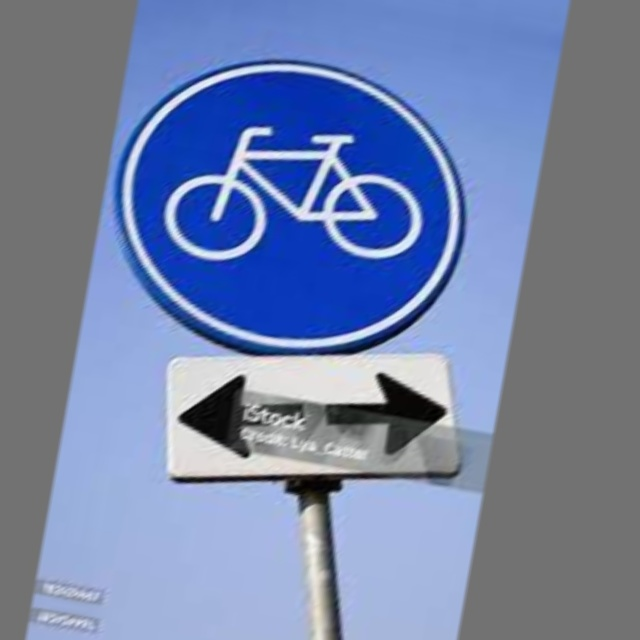Compulsory_Cycle_Track: (104, 34, 493, 350)
